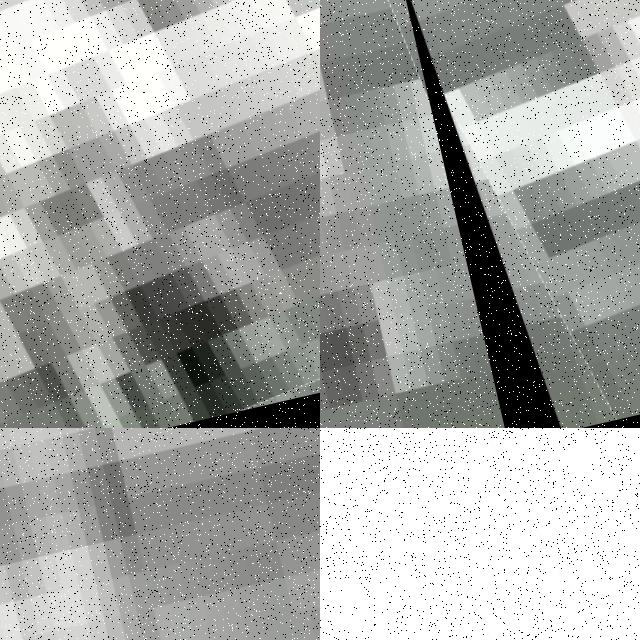0: (0, 0, 320, 428), (396, 0, 640, 428)
drone: (320, 428, 640, 640)
